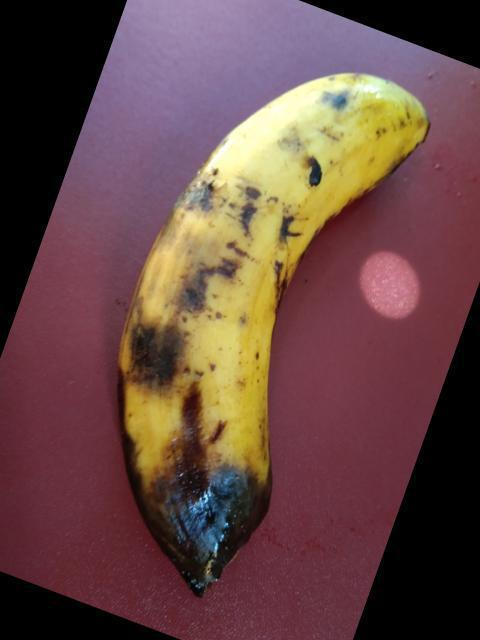overripe: (97, 47, 456, 418)
rotten: (68, 364, 317, 607)
